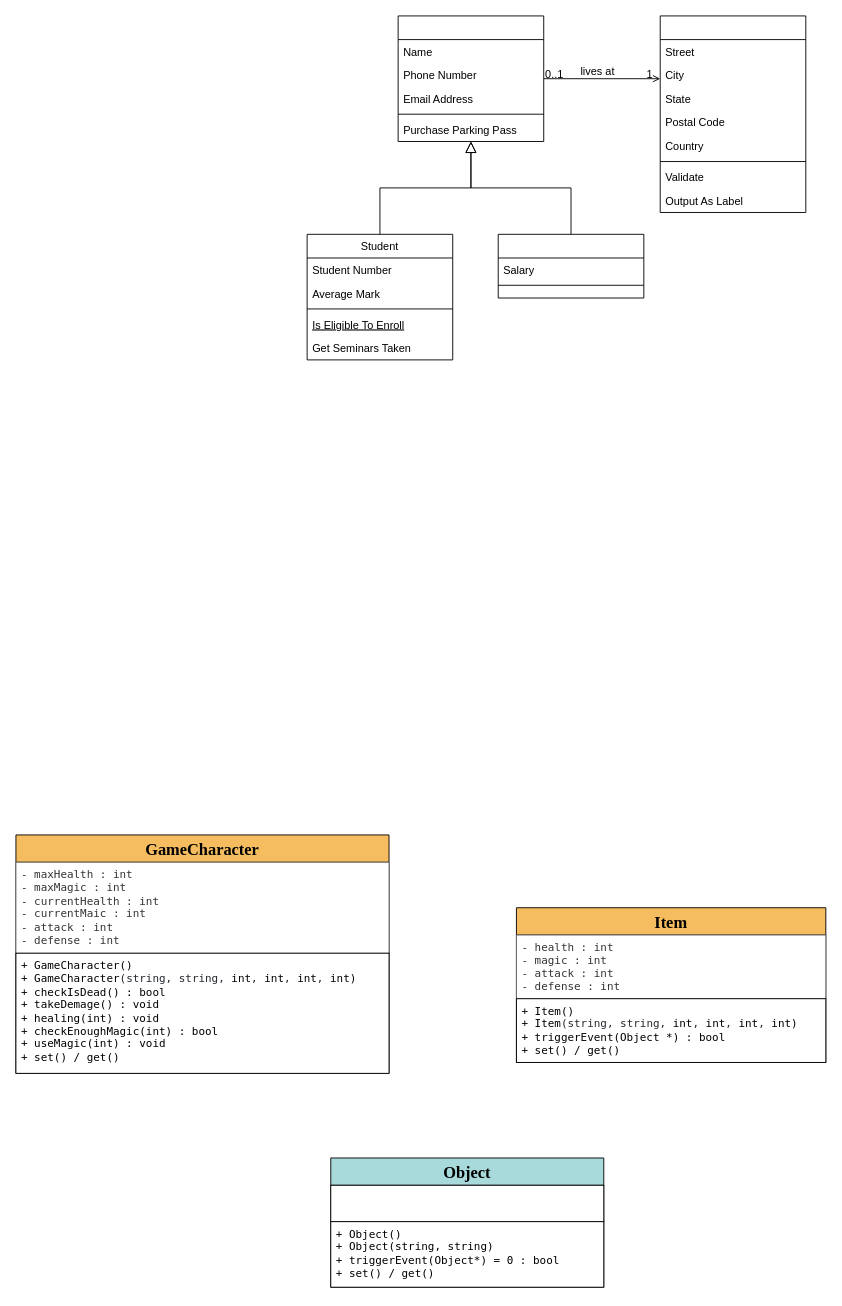
The diagram is 842 pixels wide and 1306 high, and some of its shapes have lost their labels. The box of each missing label's shape, as (x1, y1, x2, y2) in pixels:
- name : string - tag : string: (330, 1184, 604, 1222)
Address: (659, 15, 806, 212)
Person: (397, 15, 544, 142)
Professor: (497, 233, 644, 298)
